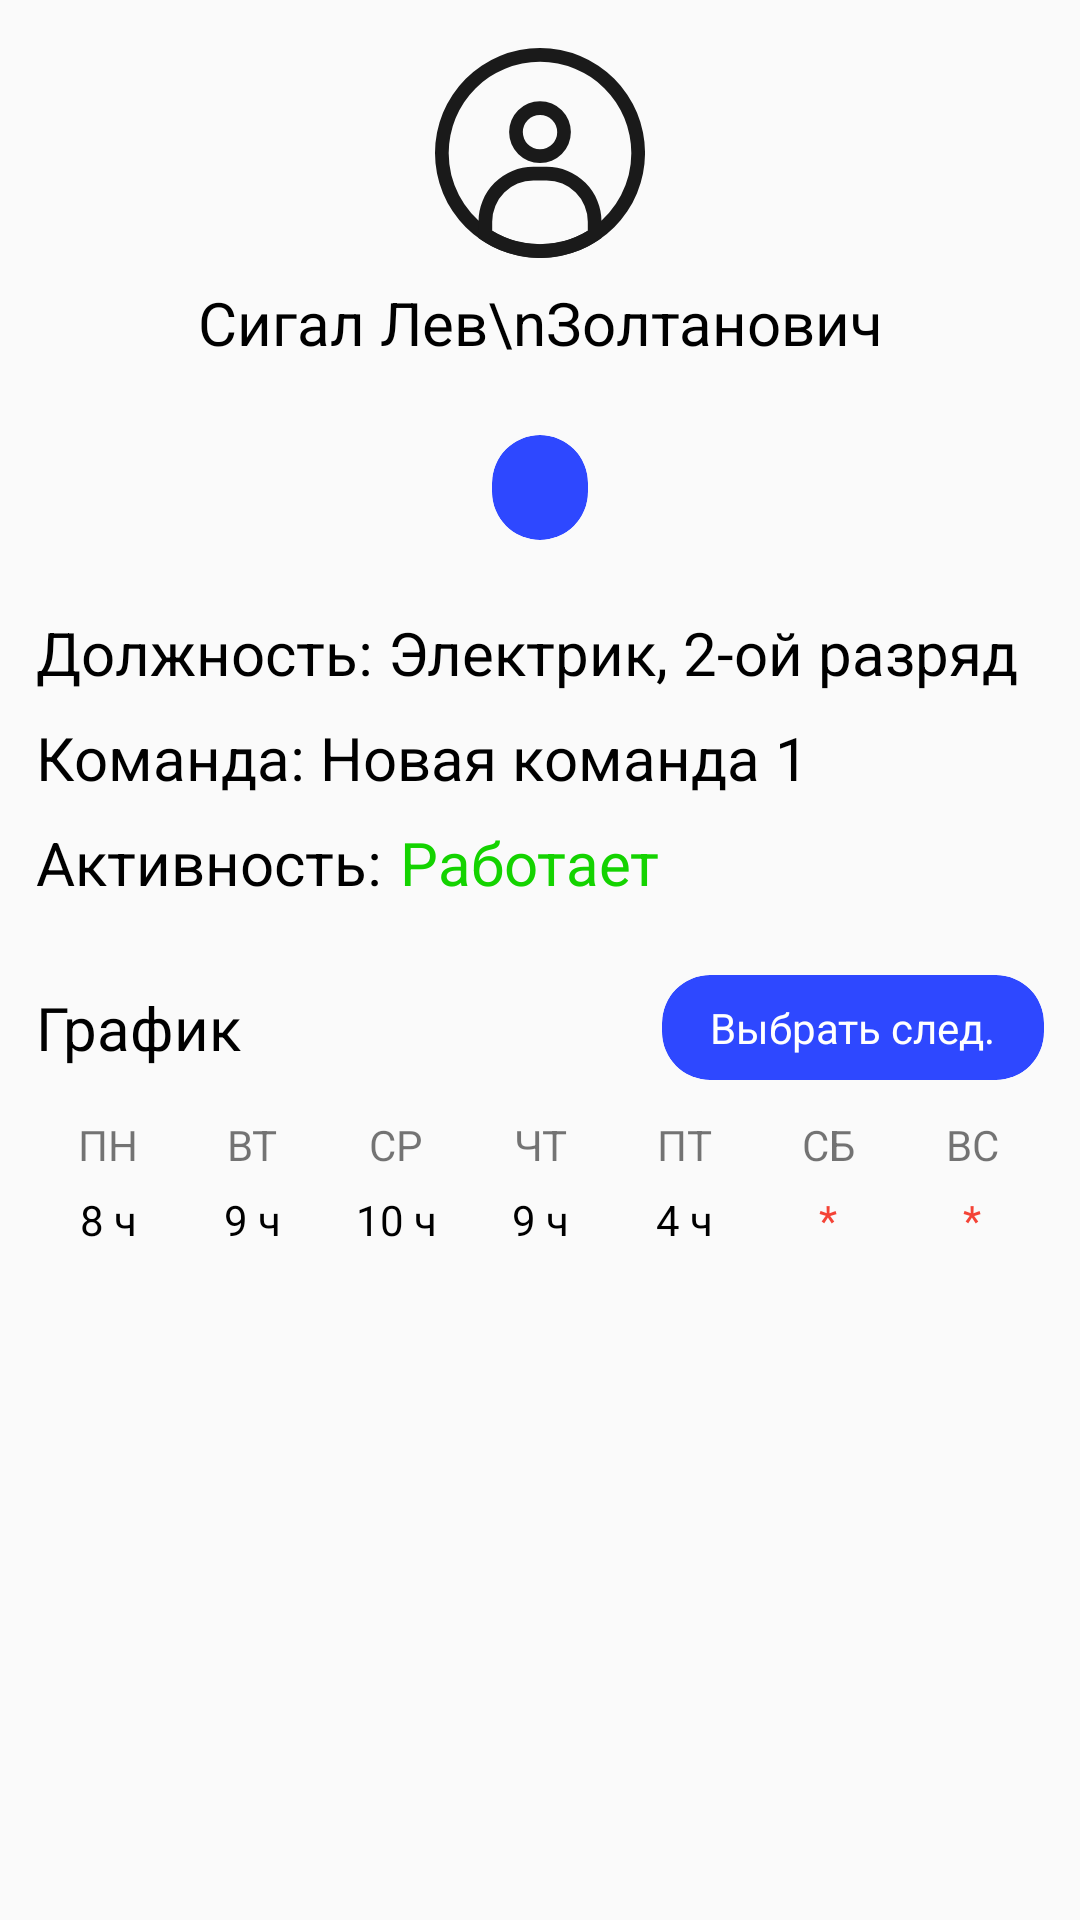

Point at icon controls on the screen. Image size 1080w x 1920h, points as (x,y).
profile user account: (540,153)
